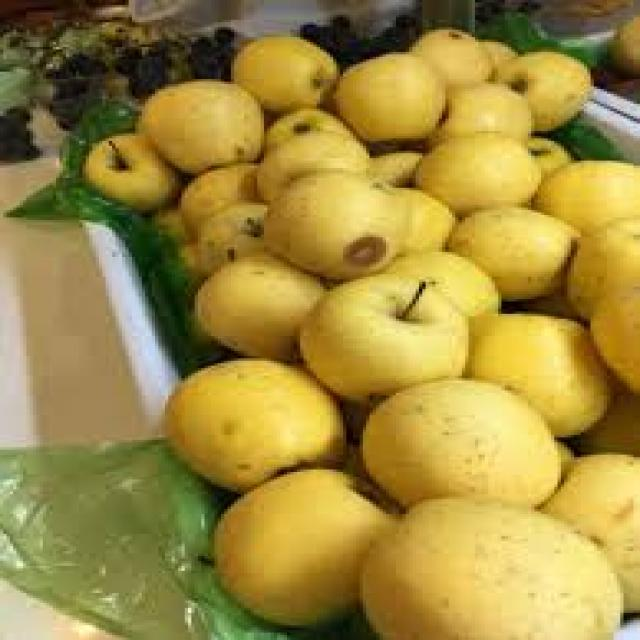organic waste: (356, 492, 617, 638), (211, 462, 403, 623), (356, 376, 561, 506), (168, 354, 343, 484), (294, 272, 462, 398), (465, 309, 614, 437), (531, 447, 637, 618), (185, 252, 320, 361), (264, 166, 396, 274), (439, 203, 574, 299), (406, 128, 538, 215), (136, 74, 258, 168), (330, 50, 449, 138), (531, 158, 637, 240), (79, 131, 178, 212), (561, 215, 637, 319), (254, 129, 363, 200), (488, 50, 587, 128), (386, 247, 498, 314), (231, 32, 333, 104), (294, 5, 422, 59), (172, 161, 260, 237), (425, 81, 528, 141), (584, 274, 637, 388), (406, 25, 495, 84), (188, 200, 264, 264), (43, 47, 109, 119), (392, 183, 458, 249), (0, 25, 53, 106), (86, 10, 185, 42), (115, 42, 168, 94), (185, 22, 238, 74), (260, 104, 350, 133), (360, 148, 422, 188), (600, 10, 637, 74), (524, 131, 570, 178), (46, 22, 106, 54), (145, 208, 185, 255), (3, 106, 43, 153), (475, 40, 515, 60)
